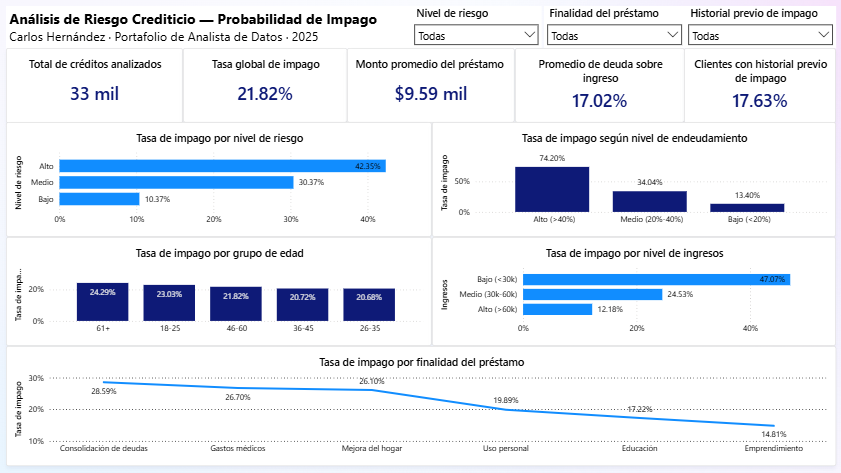

The page's visual inventory and layout, read from the dashboard file:
{"tool":"powerbi","page":{"name":"Resumen Ejecutivo","canvas":[1280,720],"ordinal":0},"visuals":[{"type":"textbox","box":[10.6,10.6,613.6,63.6],"z":0},{"type":"slicer","fields":{"Values":["creditrisk_raw.Risk Segment"]},"box":[624.2,10.6,198.5,63.6],"z":1000},{"type":"slicer","fields":{"Values":["creditrisk_raw.Loan Purpose (ES)"]},"box":[825.8,10.6,213.6,63.6],"z":2000},{"type":"slicer","fields":{"Values":["creditrisk_raw.Previous Default (Sí/No)"]},"box":[1039.4,10.6,228.8,63.6],"z":3000},{"type":"card","title":"Total de créditos analizados","fields":{"Values":["creditrisk_raw.Total Credits"]},"box":[10.6,74.2,268.2,113.6],"z":4000},{"type":"card","title":"Tasa global de impago","fields":{"Values":["creditrisk_raw.Default Rate"]},"box":[278.6,74.3,248.6,112.9],"z":5000},{"type":"card","title":"Monto promedio del préstamo","fields":{"Values":["creditrisk_raw.Avg Loan Amount"]},"box":[527.1,74.3,254.3,112.9],"z":6000},{"type":"card","title":"Promedio de deuda sobre ingreso","fields":{"Values":["creditrisk_raw.Avg Loan % Income"]},"box":[781.4,74.3,257.1,112.9],"z":7000},{"type":"card","title":"Clientes con historial previo de impago","fields":{"Values":["creditrisk_raw.Prior Default %"]},"box":[1037.9,74.2,230.3,113.6],"z":8000},{"type":"barChart","title":"Tasa de impago por nivel de riesgo","fields":{"Category":["creditrisk_raw.Risk Segment"],"Y":["creditrisk_raw.Default Rate"]},"box":[10.6,186.4,645.5,174.2],"z":9000},{"type":"columnChart","title":"Tasa de impago según nivel de endeudamiento","fields":{"Category":["creditrisk_raw.DTI Segment"],"Y":["creditrisk_raw.Default Rate"]},"box":[656.1,186.4,612.1,174.2],"z":10000},{"type":"clusteredColumnChart","title":"Tasa de impago por grupo de edad","fields":{"Category":["creditrisk_raw.Age Group"],"Y":["creditrisk_raw.Default Rate"]},"box":[10.6,360.6,645.5,165.2],"z":11000},{"type":"barChart","title":"Tasa de impago por nivel de ingresos","fields":{"Category":["creditrisk_raw.Income Segment"],"Y":["creditrisk_raw.Default Rate"]},"box":[656.1,360.6,612.1,165.2],"z":12000},{"type":"lineChart","title":"Tasa de impago por finalidad del préstamo","fields":{"Category":["creditrisk_raw.Loan Purpose (ES)"],"Y":["creditrisk_raw.Default Rate"]},"box":[10.6,525.8,1257.6,181.8],"z":13000}]}

Visuals, with their boxes in screenshot pixels (x1, y1, x2, y2), scaled from the page's 1280x720 canvas onto the 841x473 screenshot:
textbox: [left=7, top=7, right=410, bottom=49]
slicer - creditrisk_raw.Risk Segment: [left=410, top=7, right=541, bottom=49]
slicer - creditrisk_raw.Loan Purpose (ES): [left=543, top=7, right=683, bottom=49]
slicer - creditrisk_raw.Previous Default (Sí/No): [left=683, top=7, right=833, bottom=49]
"Total de créditos analizados" card: [left=7, top=49, right=183, bottom=123]
"Tasa global de impago" card: [left=183, top=49, right=346, bottom=123]
"Monto promedio del préstamo" card: [left=346, top=49, right=513, bottom=123]
"Promedio de deuda sobre ingreso" card: [left=513, top=49, right=682, bottom=123]
"Clientes con historial previo de impago" card: [left=682, top=49, right=833, bottom=123]
"Tasa de impago por nivel de riesgo" barChart: [left=7, top=122, right=431, bottom=237]
"Tasa de impago según nivel de endeudamiento" columnChart: [left=431, top=122, right=833, bottom=237]
"Tasa de impago por grupo de edad" clusteredColumnChart: [left=7, top=237, right=431, bottom=345]
"Tasa de impago por nivel de ingresos" barChart: [left=431, top=237, right=833, bottom=345]
"Tasa de impago por finalidad del préstamo" lineChart: [left=7, top=345, right=833, bottom=465]
